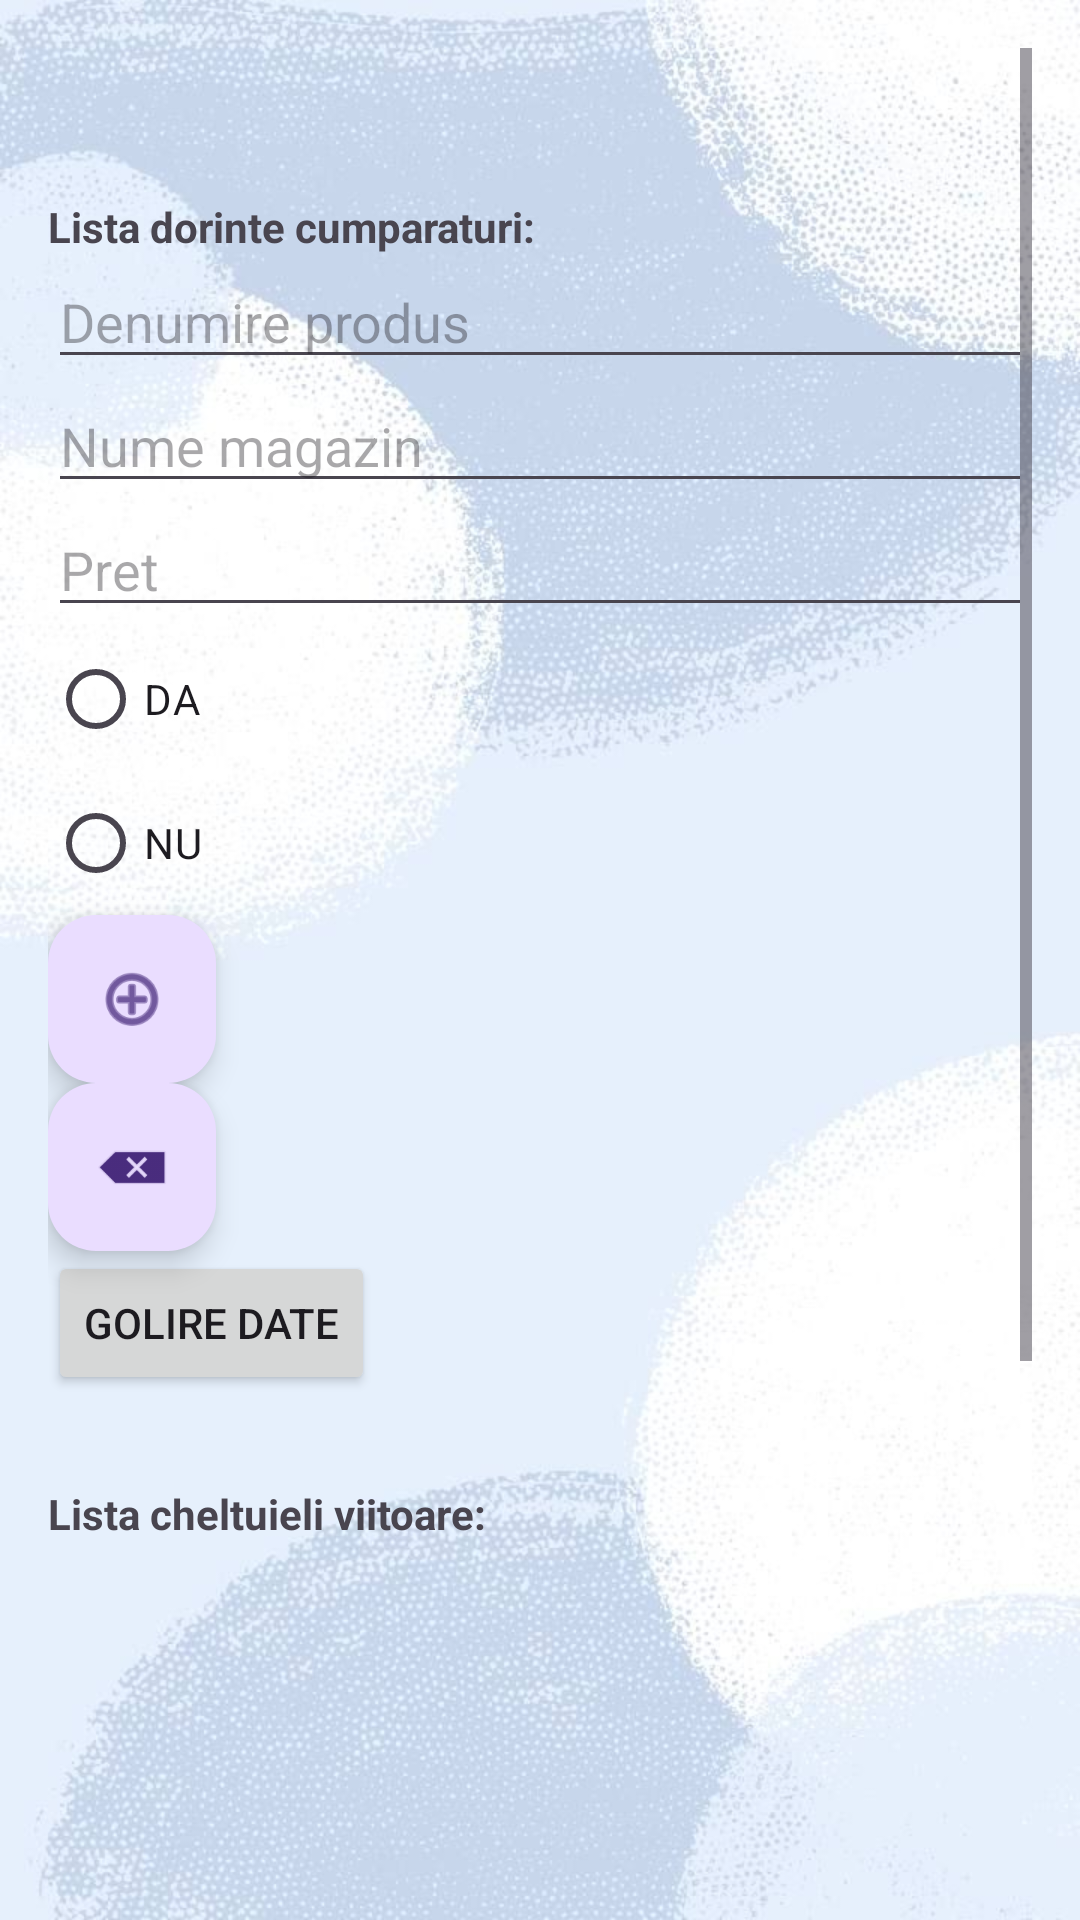

Locate icon controls on the screen. Image size 1080×1920, boxes as [x1, y1, x2, y2].
Delete: [48, 1083, 216, 1251]
